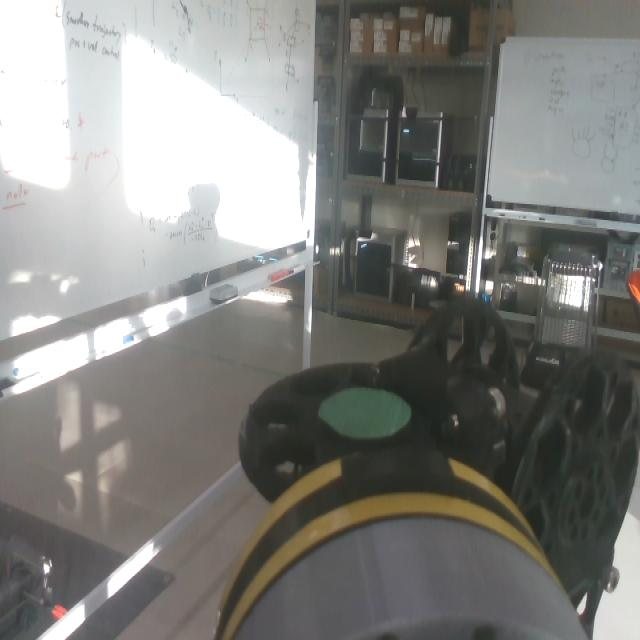body_connector: (236, 516, 585, 638)
connection: (211, 453, 590, 640)
leg: (214, 300, 640, 640)
leg_connector: (222, 448, 550, 634)
marker: (321, 386, 409, 434)
